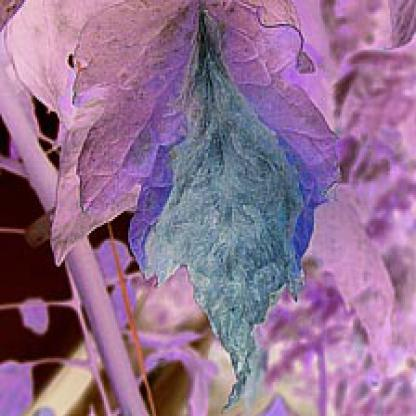tomato mold leaf: (71, 8, 334, 412)
